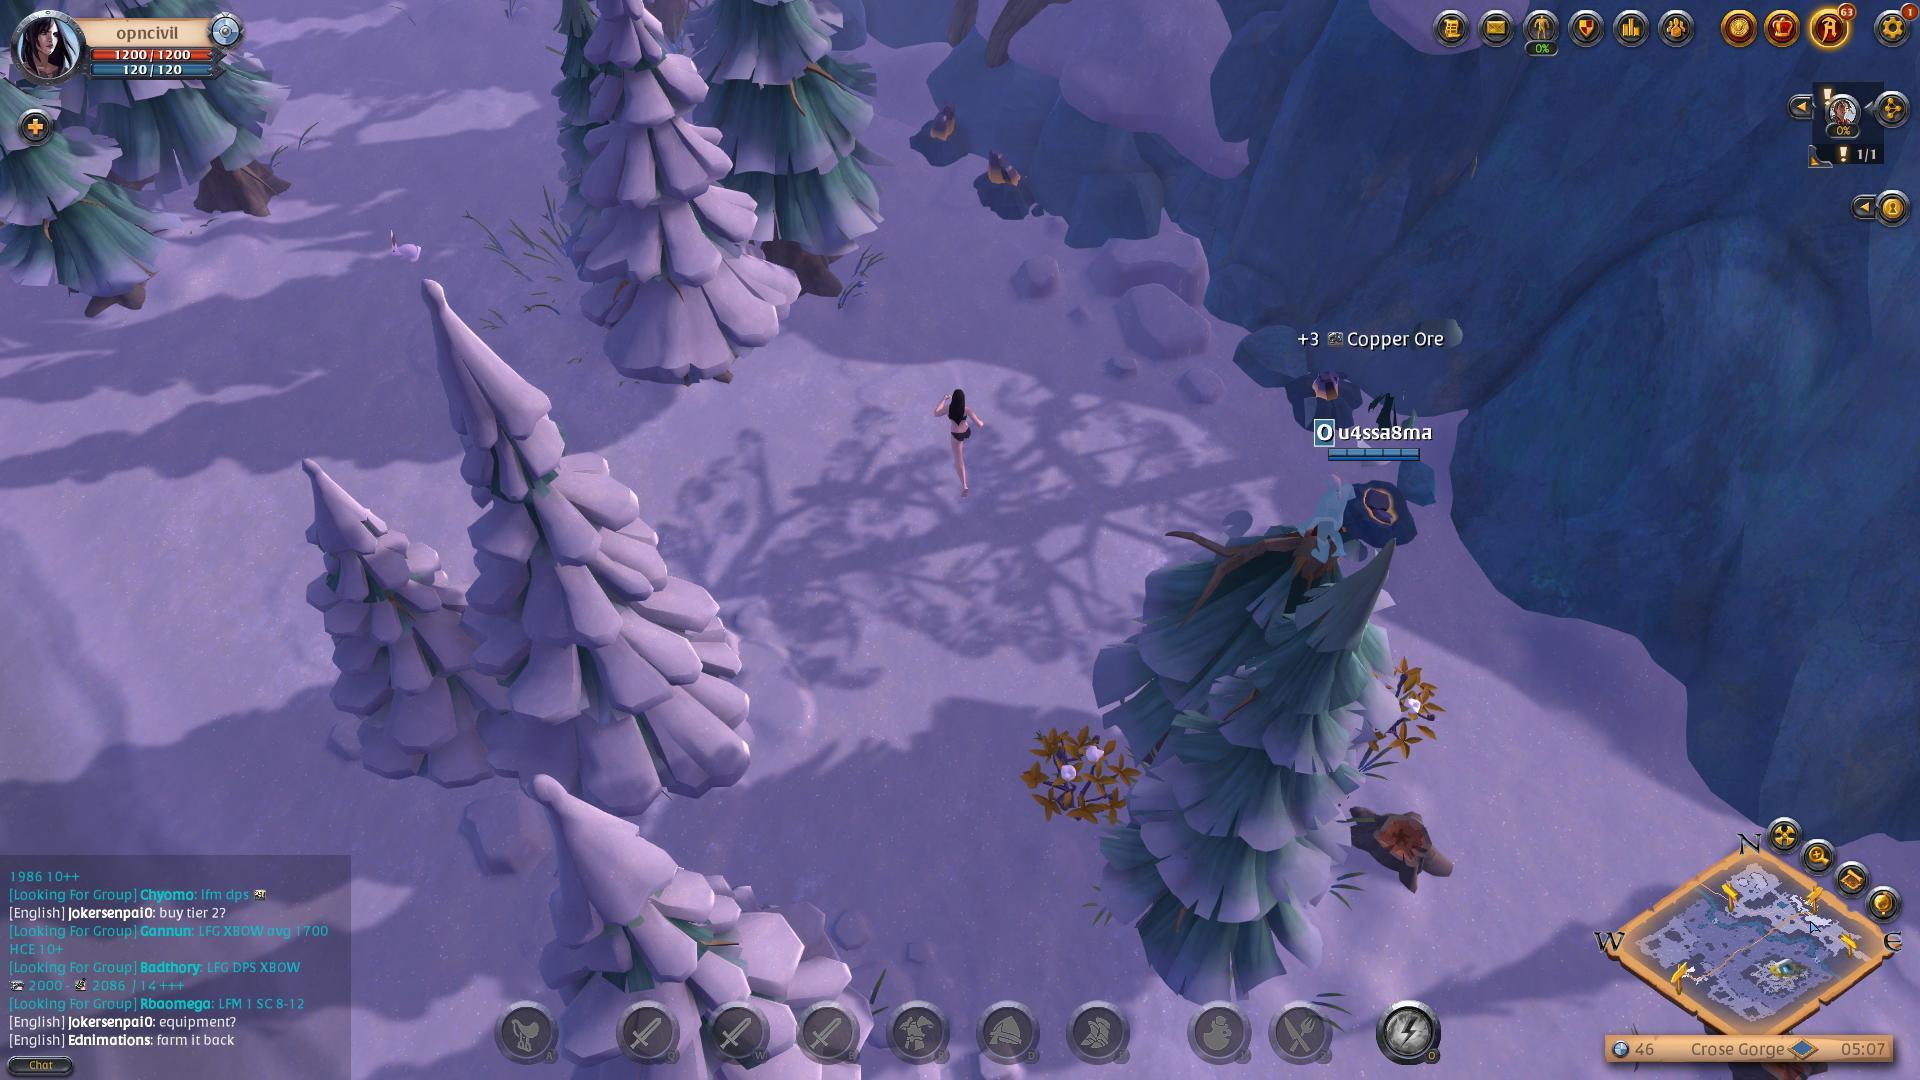copper_ore: (978, 142, 1034, 220)
cotton: (1029, 733, 1155, 824)
